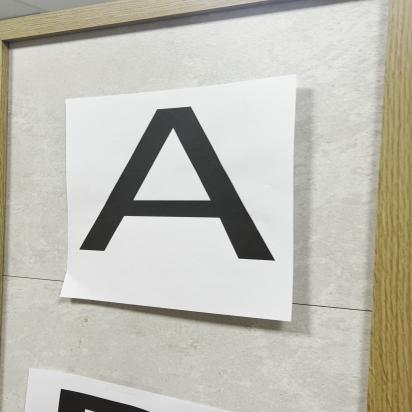seat: (78, 97, 286, 276)
